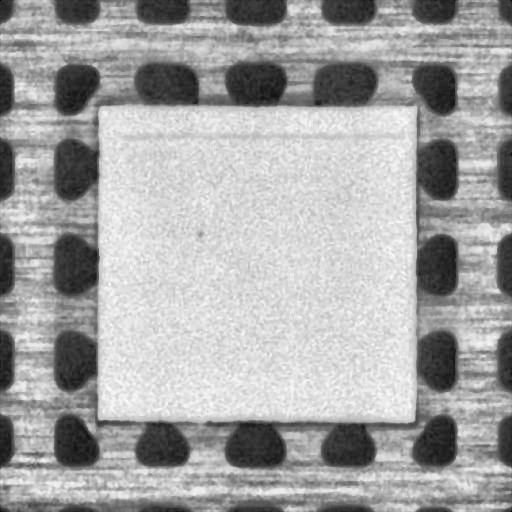DIE_CRACK: (116, 123, 404, 140)
